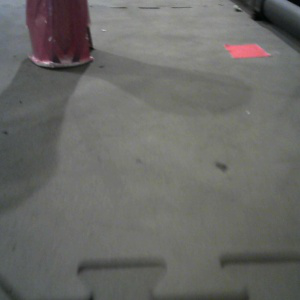Middle: (26, 1, 95, 69)
